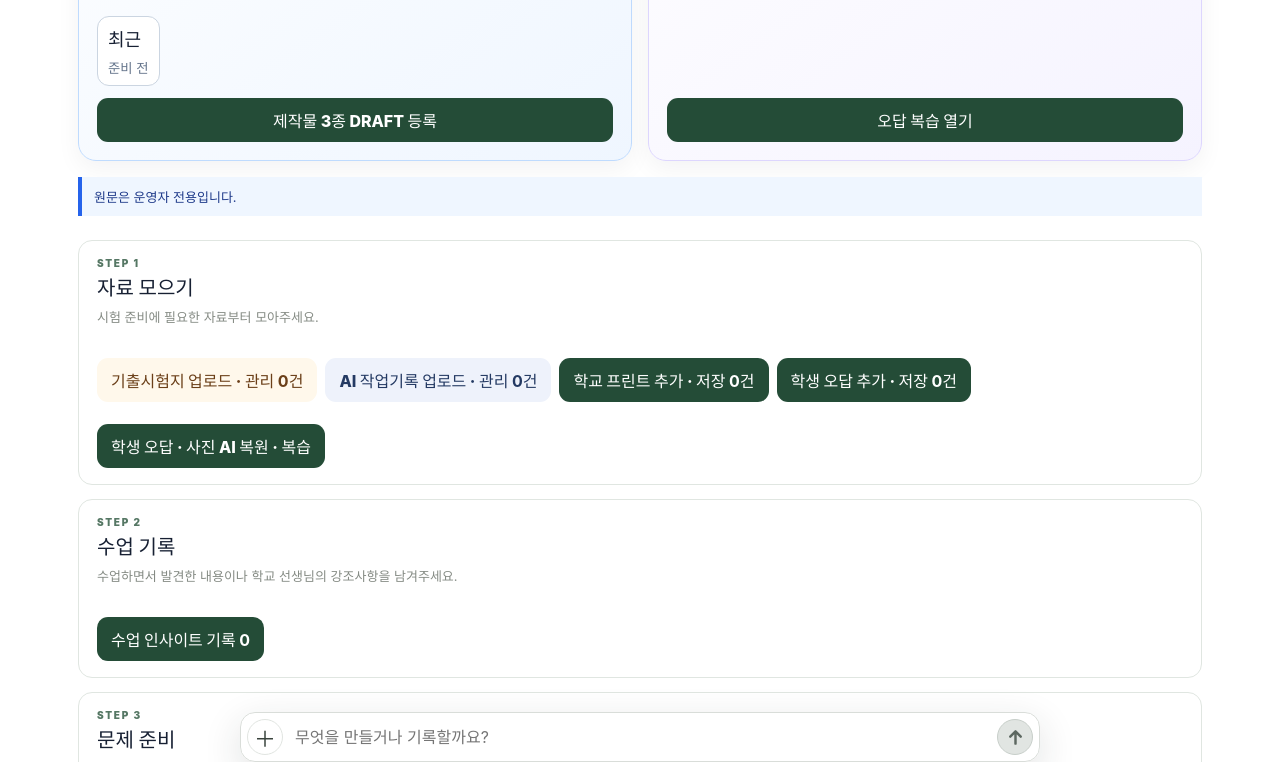
Scenario: 내신 Wiki V1.1 시나리오 홈 › 학생 오답 추가 클릭 시 등록 폼이 열리고 즉시(behavior:auto) 그 위치까지 이동한다
This screenshot has width=1280, height=762.
(page scrolled)
Click the button "학생 오답 추가 · 저장 0건" at (874,380), box [777,358,971,402]
(page scrolled)
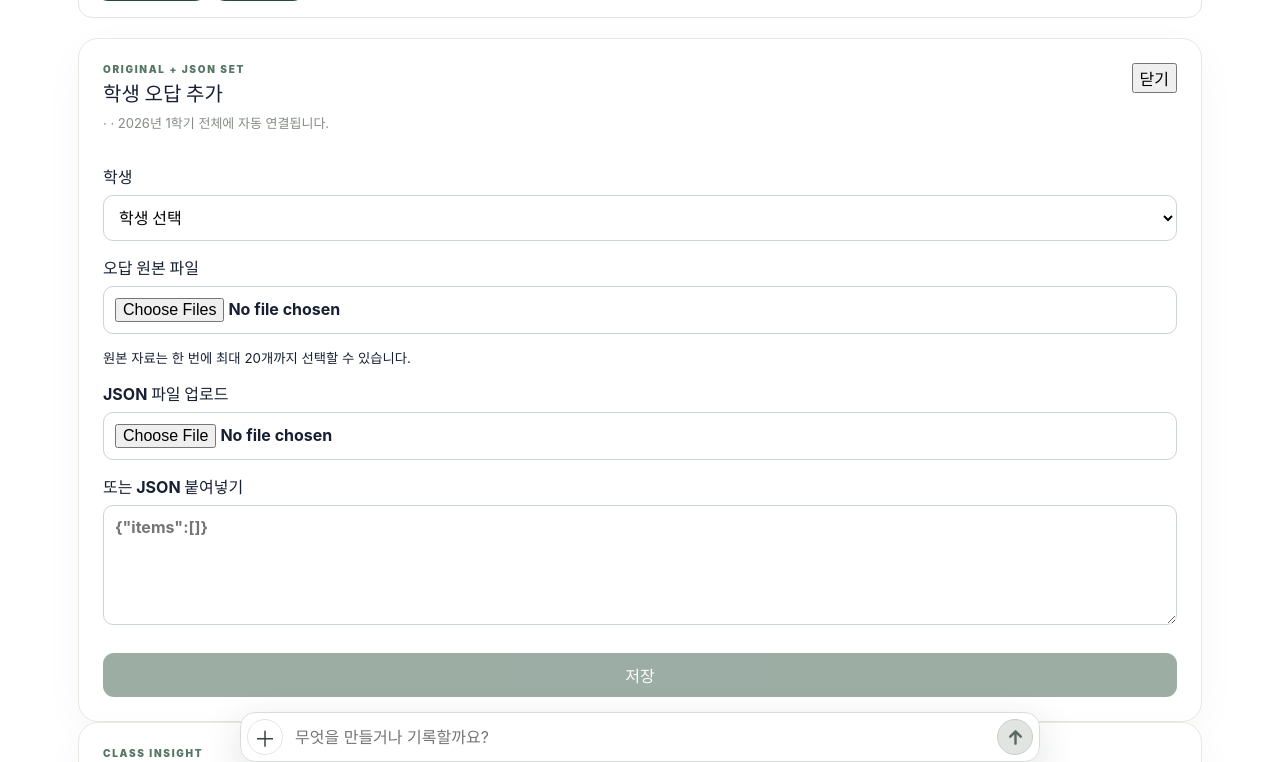
Result: the form "학생 오답 추가" is shown
